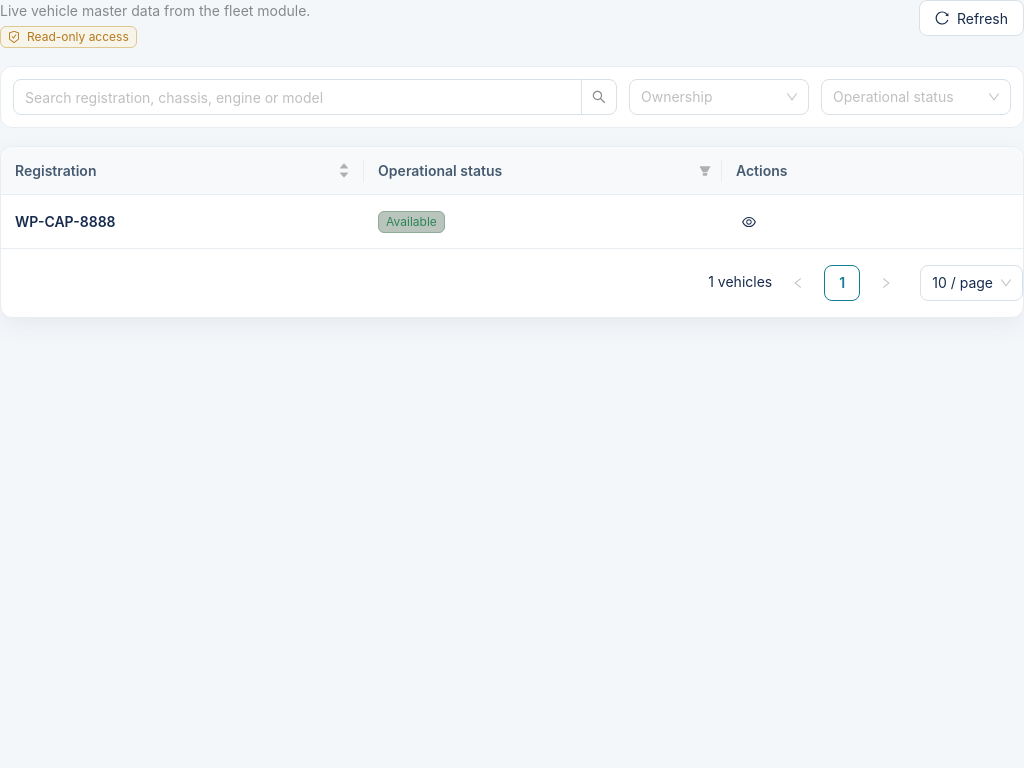
Test: VehicleListPage › displays authoritative capacity facts in vehicle details drawer
The image size is (1024, 768).
expect the text "WP-CAP-8888" is shown: met, box x1=15 y1=213 x2=116 y2=230
Click the button named "view details". click: click(750, 222)
box: x1=736 y1=208 x2=763 y2=235
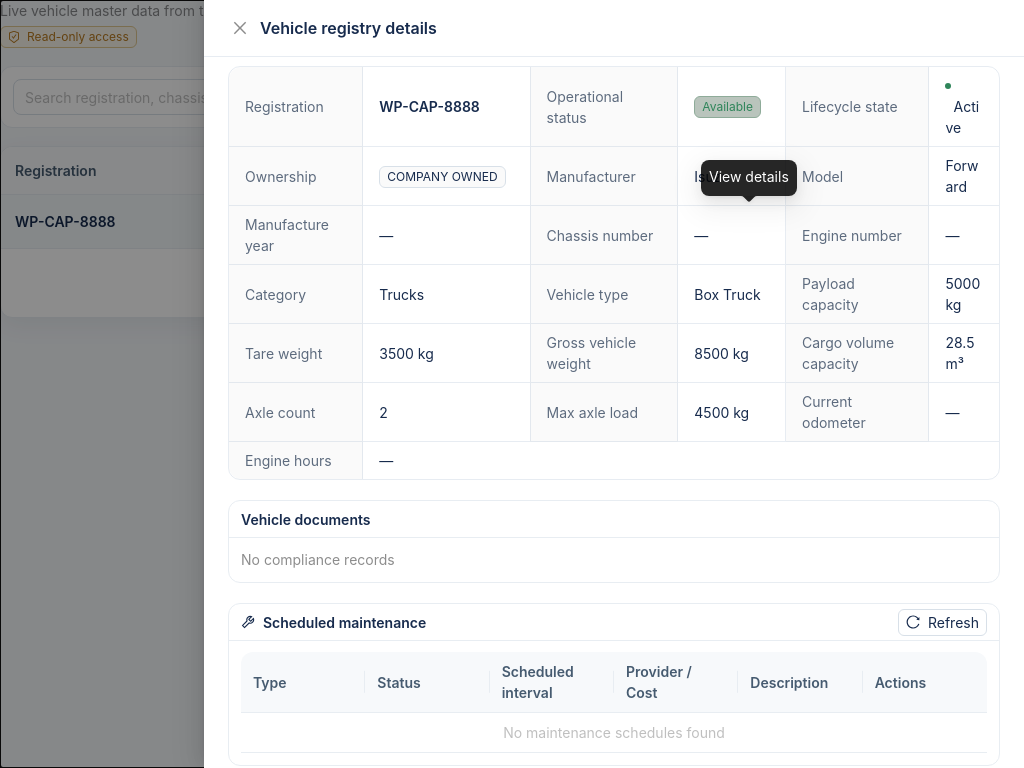
expect the text "Payload capacity" is shown: met, box x1=802 y1=275 x2=859 y2=313
expect the text "5000 kg" is shown: met, box x1=946 y1=275 x2=980 y2=313
expect the text "Tare weight" is shown: met, box x1=245 y1=344 x2=322 y2=362
